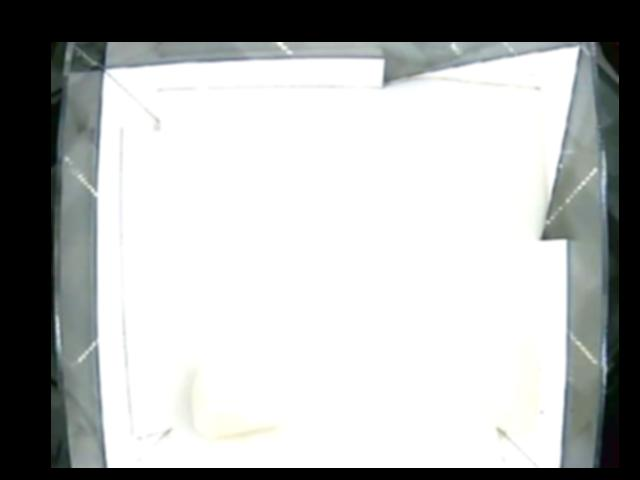Mooli: (193, 354, 285, 438)
